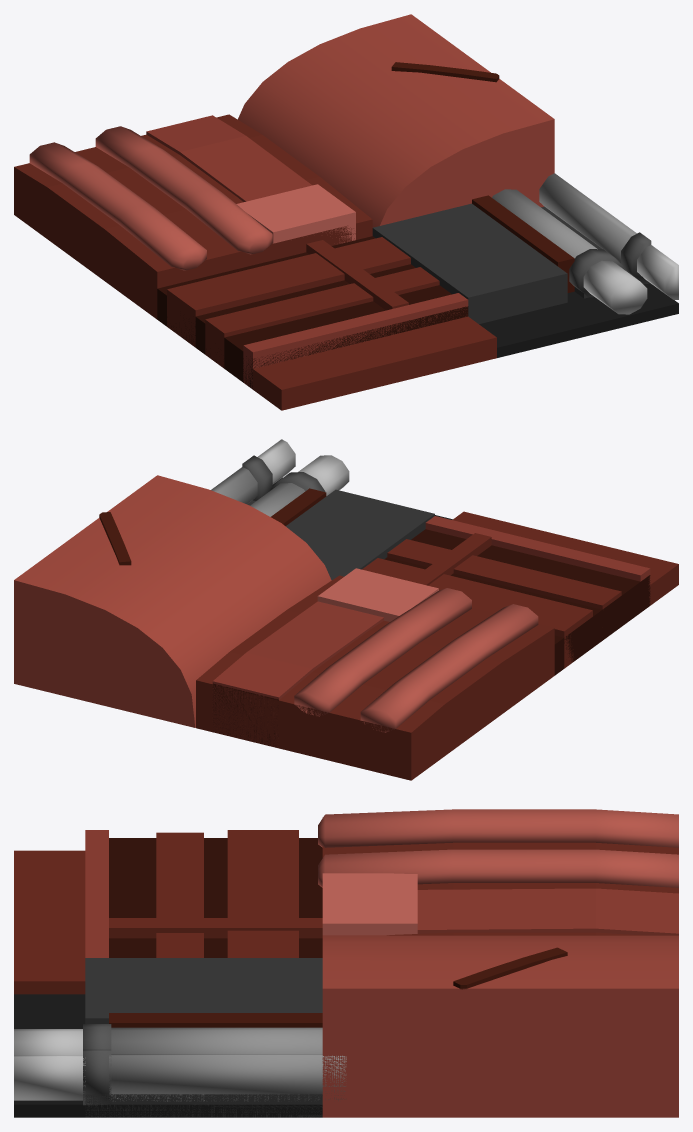
Rendered from newshf-195.glb.
The picture shows the model from 3 angles, top to bottom: view 1: azimuth 30°, elevation 25°; view 2: azimuth 150°, elevation 25°; view 3: azimuth 270°, elevation 25°; orthographic projection. The views are drawn at different scales.
Visible parts, largest first — view 1: newshf-195; view 2: newshf-195; view 3: newshf-195.
Boxes of the visible parts, bbox=[...] form: newshf-195: bbox=[14, 14, 678, 410]; newshf-195: bbox=[14, 439, 678, 780]; newshf-195: bbox=[14, 809, 678, 1117].
Size of the model in its own units: 2 by 0.5138 by 2.33.
